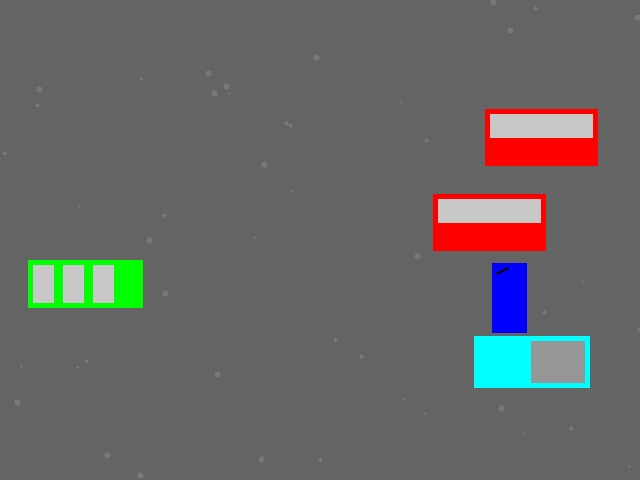bus: (28, 260, 142, 307)
car: (433, 194, 545, 250), (485, 109, 597, 165)
motorcycle: (492, 263, 526, 332)
truck: (474, 336, 589, 387)
